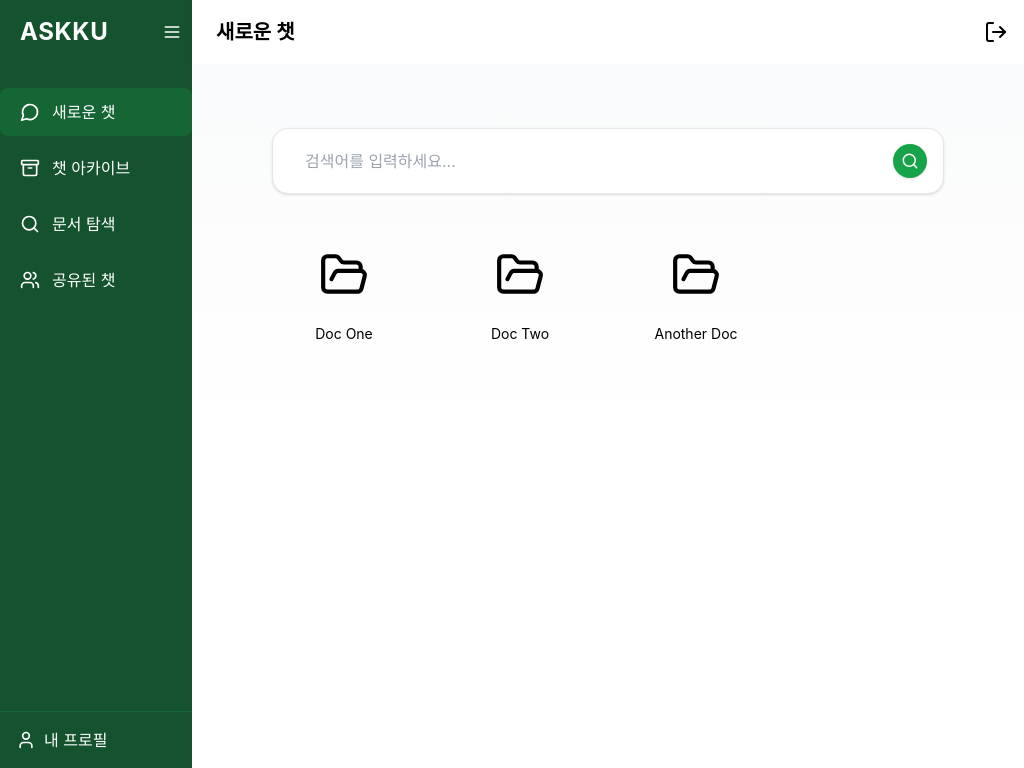
Test case: DocumentPage › filters documents by search
Check: the text "Doc One" is shown, box [315, 324, 373, 344]
Type "another" into the field with placeholder "검색어를 입력하세요...".
click(585, 161); type("another")  # box [289, 137, 881, 185]
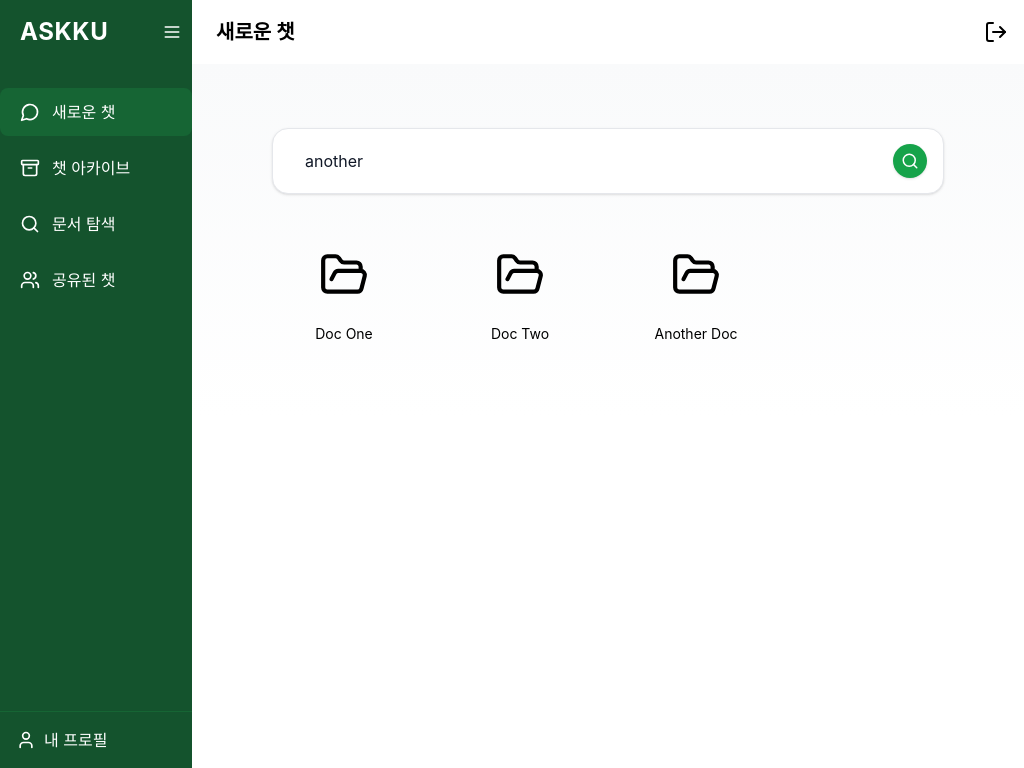
Press Enter in the field with placeholder "검색어를 입력하세요...", box [289, 137, 881, 185]
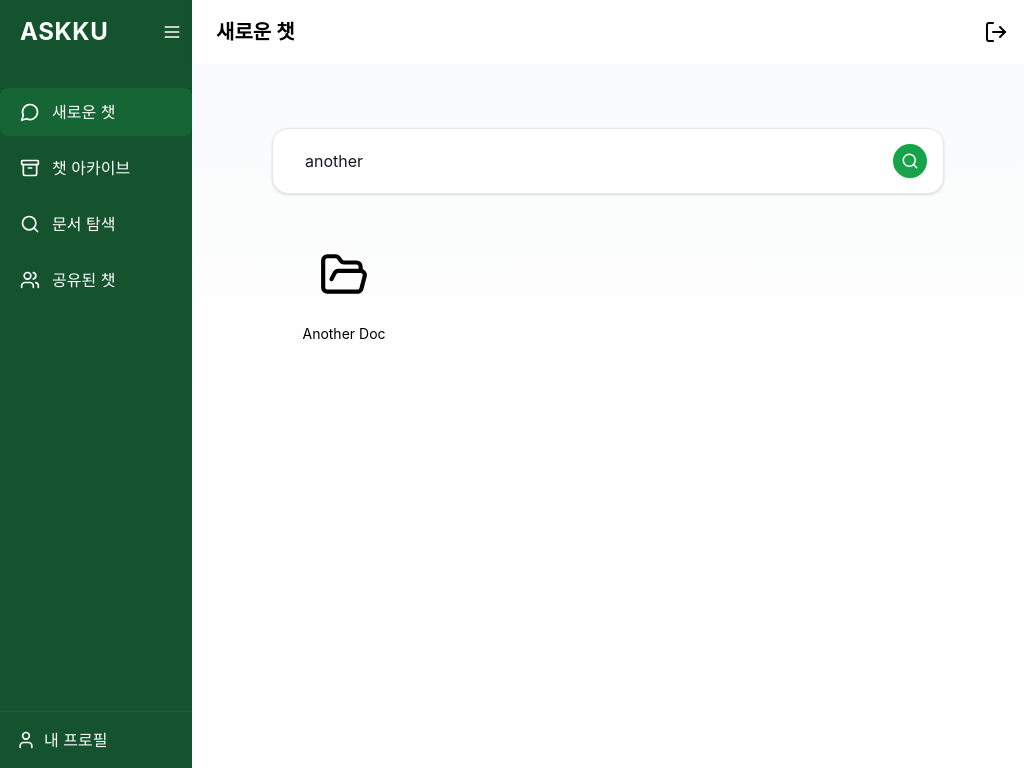
Check: the text "Another Doc" is shown, box [302, 324, 386, 344]
Check: the text "Doc One" is gone
